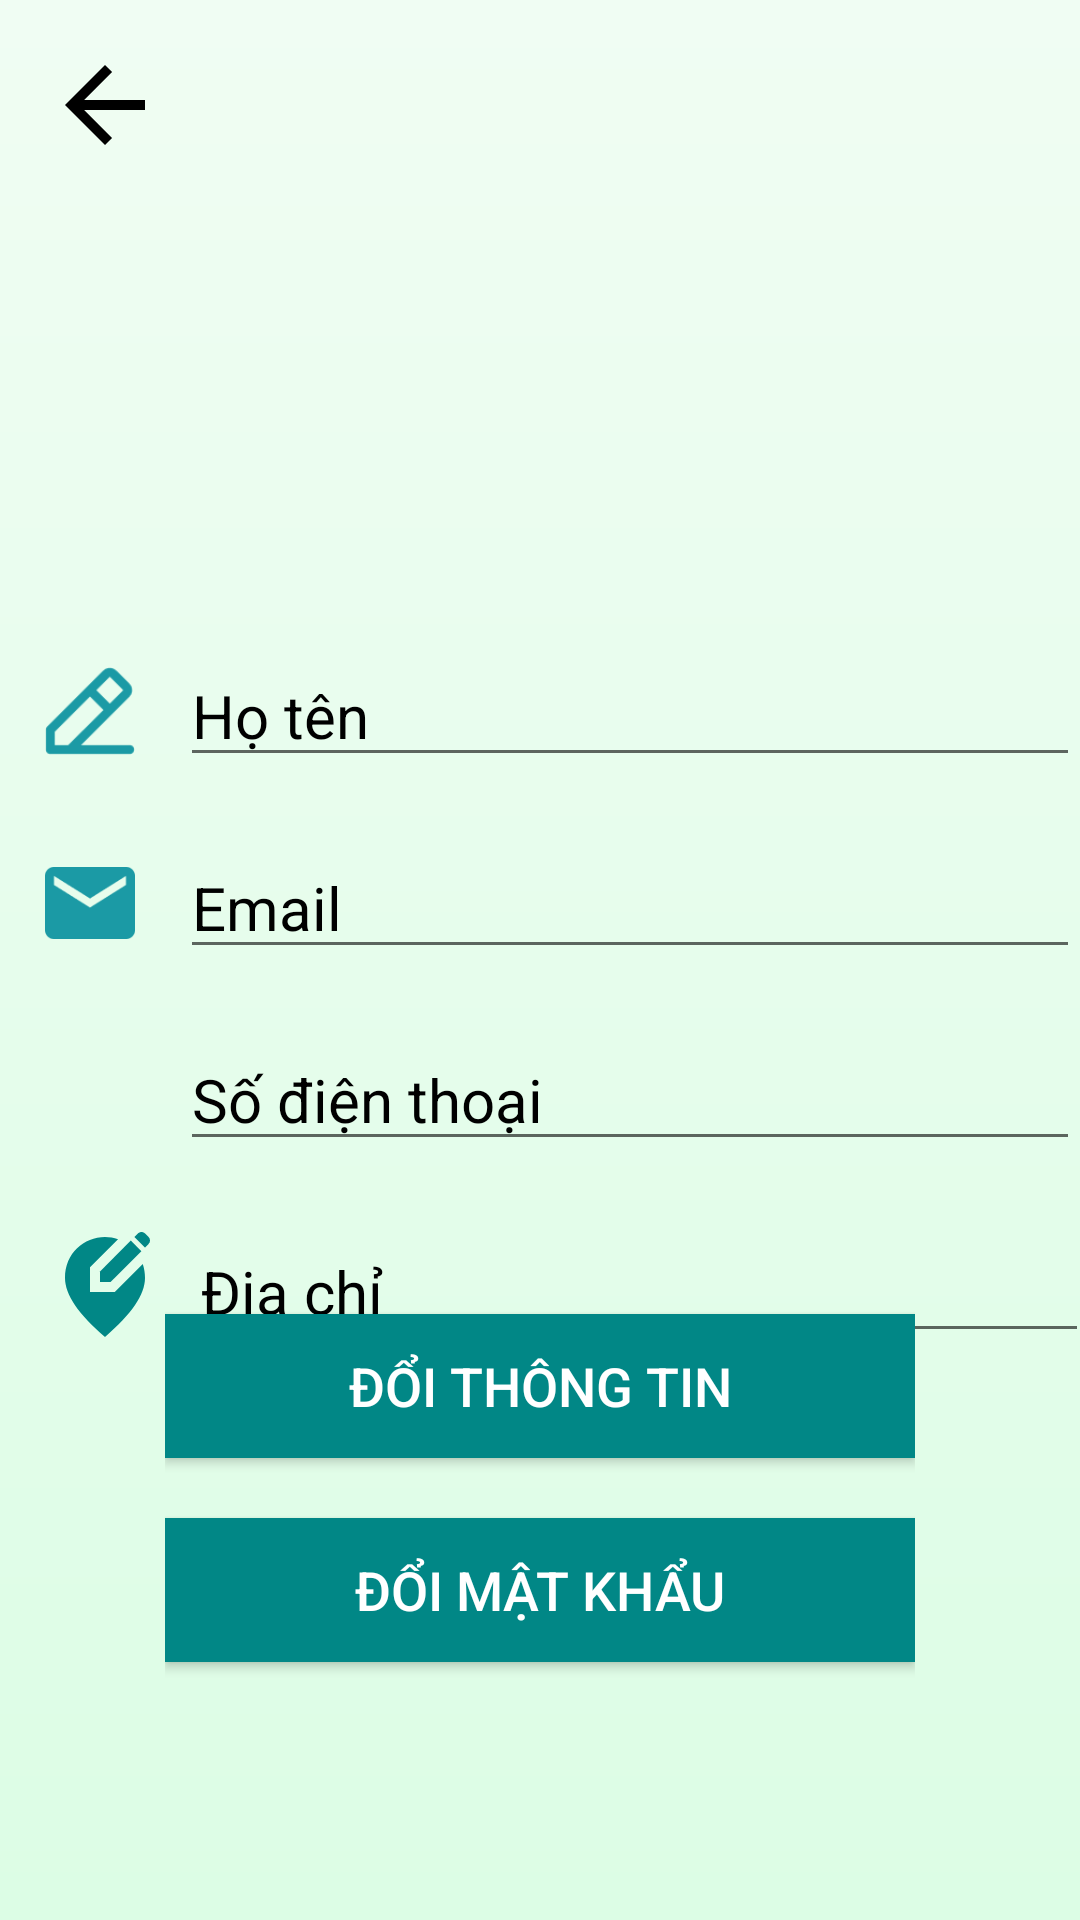

Icons on this 1080×1920 Android screen, each with the point to tap as (x=x, y=y):
arrow back: (x=105, y=105)
edit location: (x=107, y=1284)
pencil: (x=90, y=711)
